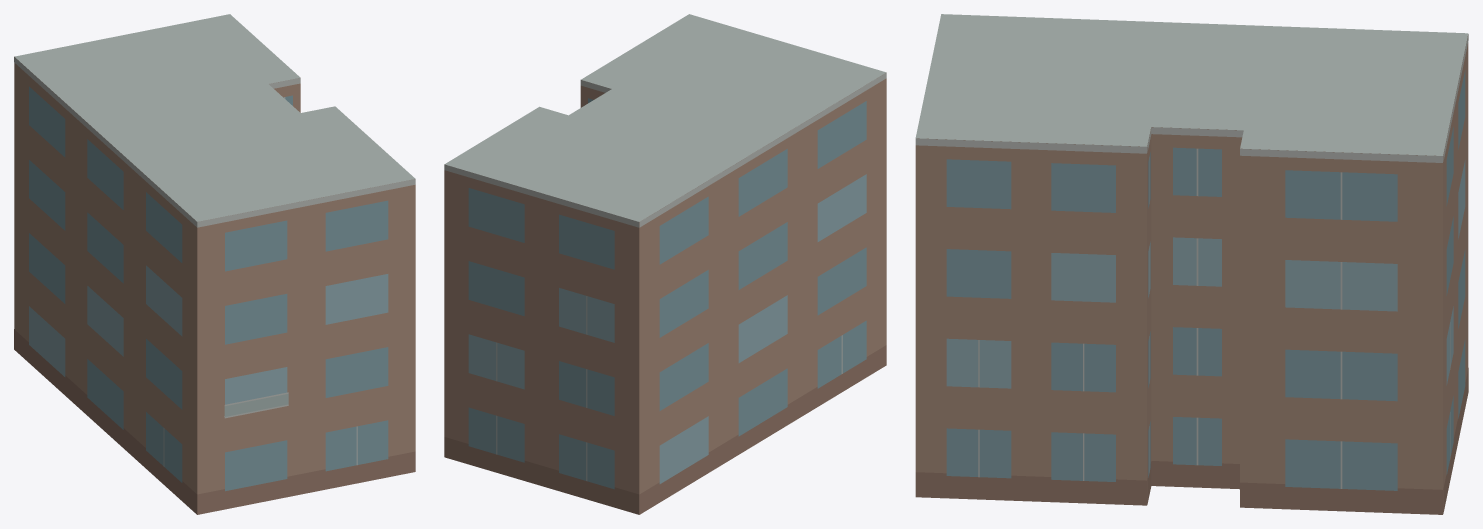
Rendered from survey-upis-32920535.glb.
The picture shows the model from 3 angles, left to right: view 1: azimuth 30°, elevation 25°; view 2: azimuth 150°, elevation 25°; view 3: azimuth 270°, elevation 25°; orthographic projection. The views are drawn at different scales.
Visible parts, largest first — view 1: survey-upis-32920535.tmp; view 2: survey-upis-32920535.tmp; view 3: survey-upis-32920535.tmp.
Boxes of the visible parts, left/top/right/bottom form: survey-upis-32920535.tmp: left=14, top=14, right=415, bottom=514; survey-upis-32920535.tmp: left=444, top=14, right=886, bottom=514; survey-upis-32920535.tmp: left=915, top=14, right=1468, bottom=514.
Bounding box in the file's own units: 10.53 × 12.4 × 17.33.
